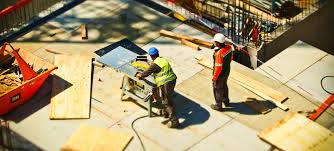helmet: (212, 33, 225, 44), (147, 47, 159, 56)
vest: (153, 59, 178, 85)
